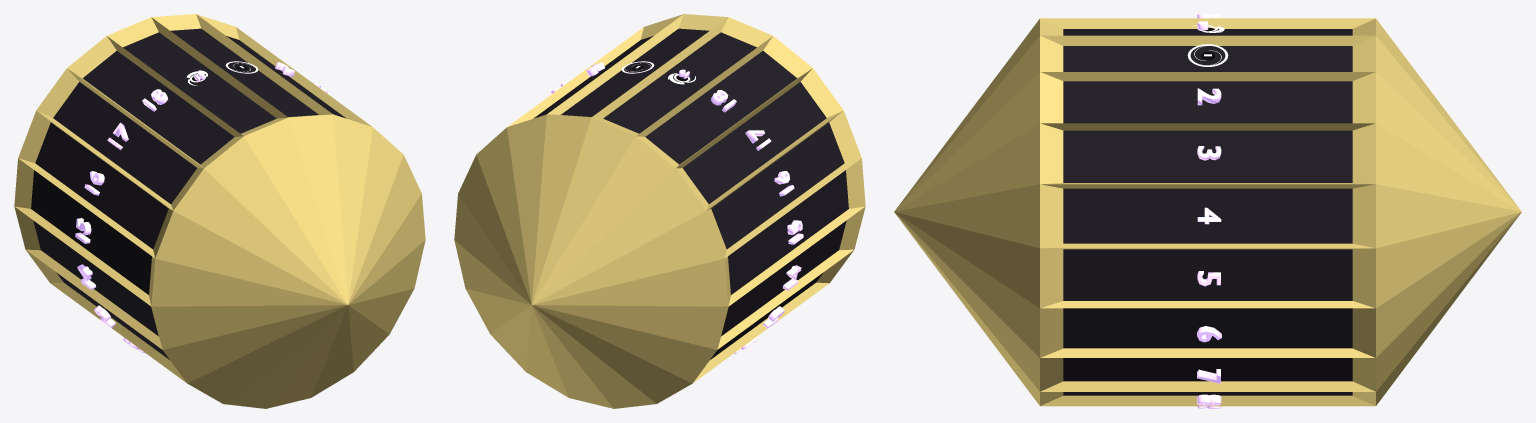
The model's file is d19_black_hole_gold.glb.
3 renders of one model, left to right at view 1: azimuth 30°, elevation 25°; view 2: azimuth 150°, elevation 25°; view 3: azimuth 270°, elevation 25°, orthographic. The views are drawn at different scales.
Parts seen in each view (by area): view 1: D19_BlackHole_Gold; view 2: D19_BlackHole_Gold; view 3: D19_BlackHole_Gold.
Boxes of the visible parts, <box> form: D19_BlackHole_Gold: <box>14,14,425,408</box>; D19_BlackHole_Gold: <box>454,14,865,408</box>; D19_BlackHole_Gold: <box>894,14,1521,408</box>.
Bounding box in the file's own units: 4.46 × 4.44 × 7.1.
